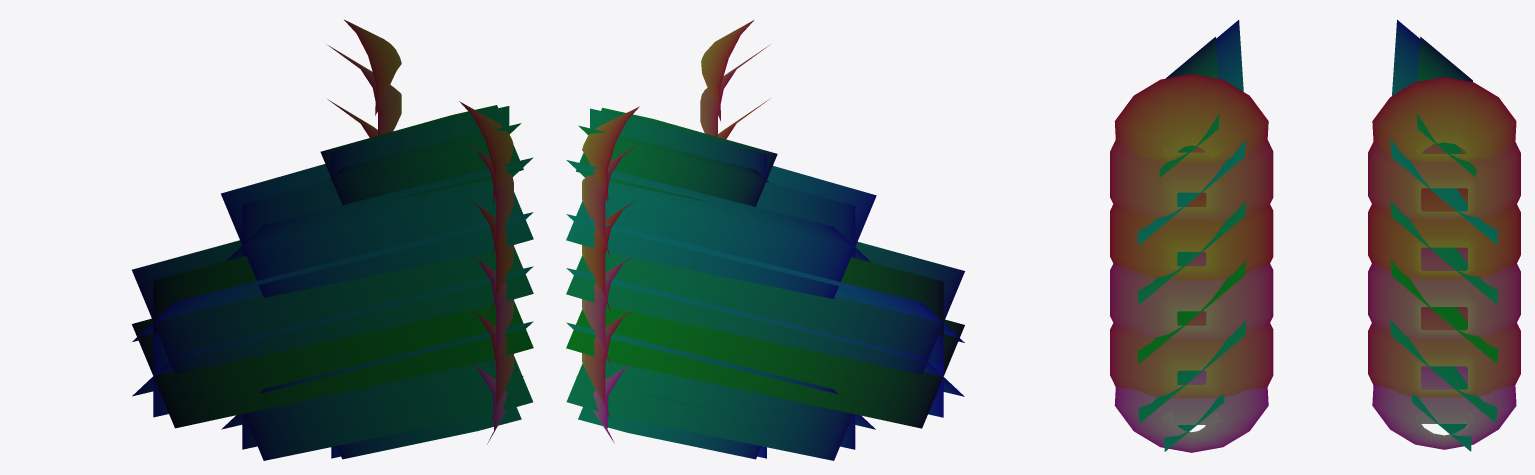
The model's file is Octane_Boost.gltf.
3 renders of one model, left to right at view 1: azimuth 30°, elevation 25°; view 2: azimuth 150°, elevation 25°; view 3: azimuth 270°, elevation 25°, orthographic. The views are drawn at different scales.
Parts seen in each view (by area): view 1: Octane_Boost; view 2: Octane_Boost; view 3: Octane_Boost.
Part boxes in pixels (x1,y1,x2,y2): Octane_Boost: (132, 19, 533, 460); Octane_Boost: (566, 20, 964, 460); Octane_Boost: (1110, 20, 1520, 452).
Size of the model in its own units: 0.32 by 0.298 by 0.2929.
